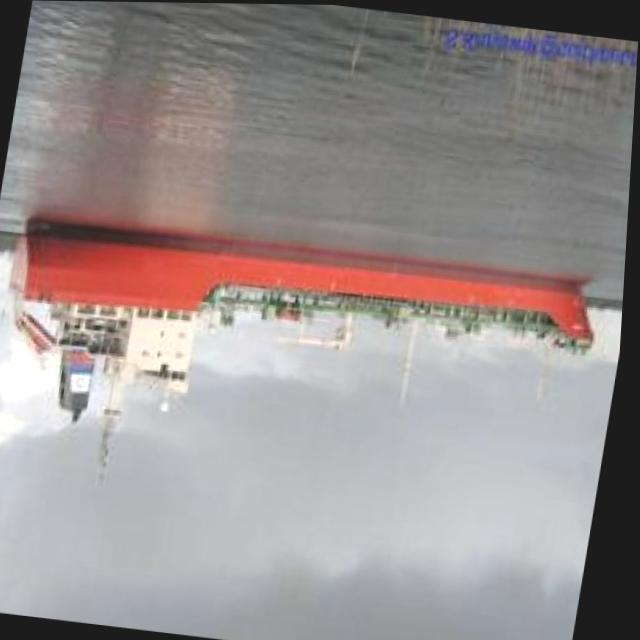ship2: (11, 216, 598, 488)
